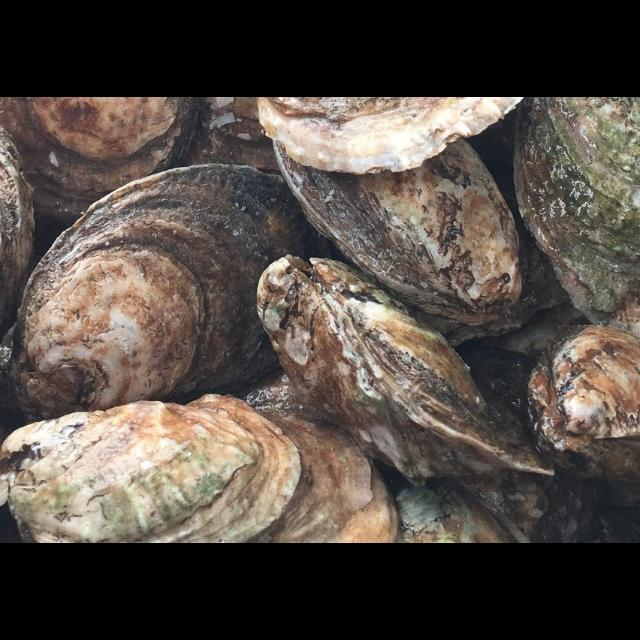Oyster-Closed: (7, 163, 333, 424), (256, 256, 553, 485), (275, 140, 525, 324), (0, 395, 301, 543), (514, 97, 640, 337), (409, 176, 571, 347), (0, 97, 201, 228), (251, 408, 401, 543), (258, 97, 522, 173), (529, 324, 640, 482), (457, 475, 640, 543), (386, 472, 532, 543), (182, 97, 280, 172), (0, 130, 35, 338)
